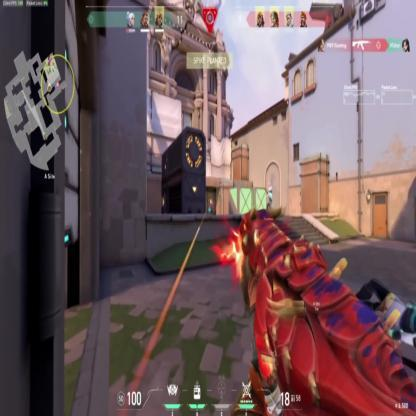enemy: (209, 198, 213, 214)
enemy_head: (209, 198, 212, 203)
